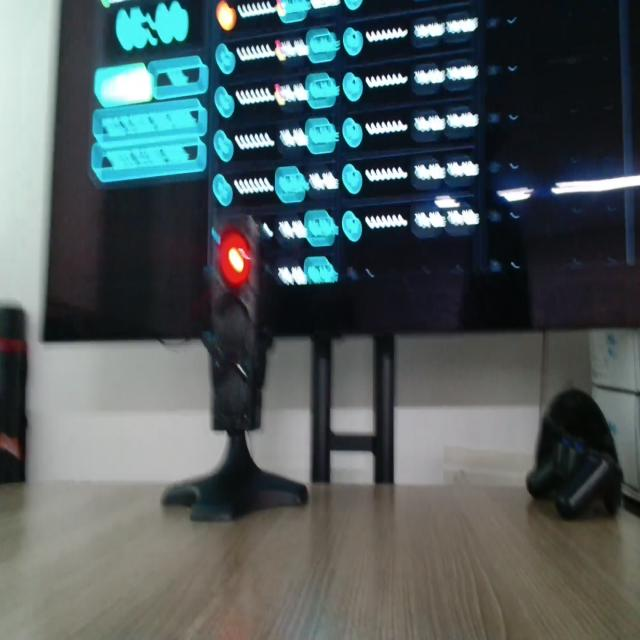red_light: (219, 230, 251, 287)
